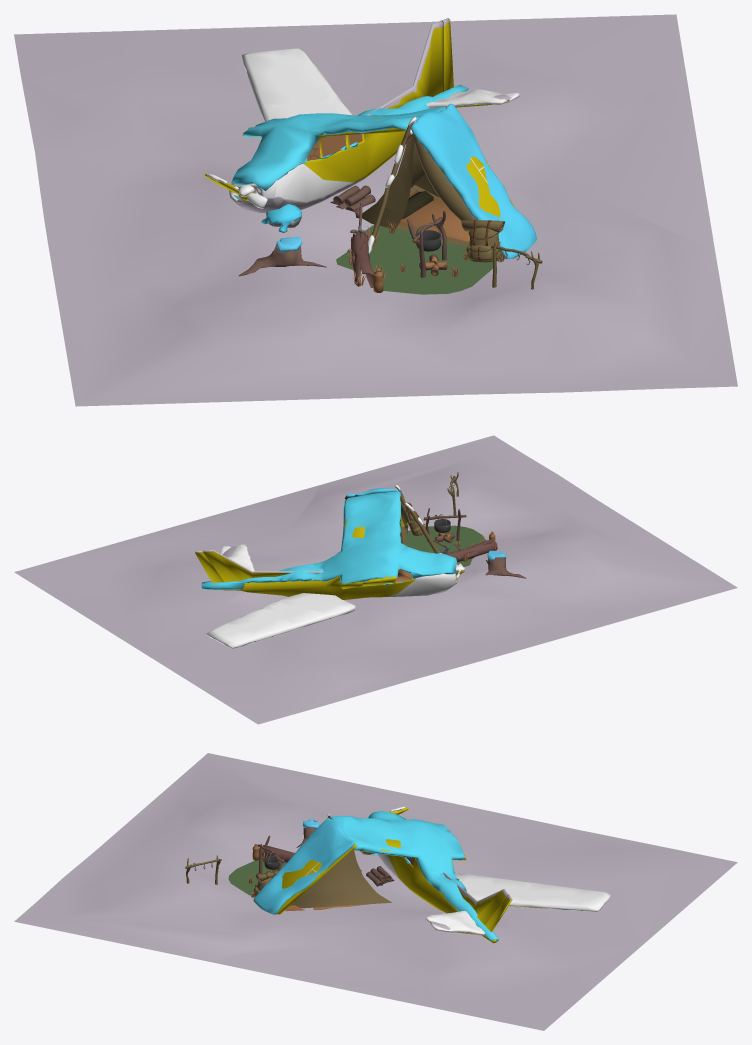
The model's file is main scene03.fbx.
3 renders of one model, top to bottom at view 1: azimuth 30°, elevation 25°; view 2: azimuth 150°, elevation 25°; view 3: azimuth 270°, elevation 25°, orthographic. The views are drawn at different scales.
Parts seen in each view (by area): view 1: Snowdrift_plane.006; view 2: Snowdrift_plane.006; view 3: Snowdrift_plane.006.
Part boxes in pixels (bbox=[...]): Snowdrift_plane.006: bbox=[14, 14, 737, 406]; Snowdrift_plane.006: bbox=[14, 435, 737, 724]; Snowdrift_plane.006: bbox=[14, 753, 737, 1030].
Size of the model in its own units: 4345 by 614 by 4783.
